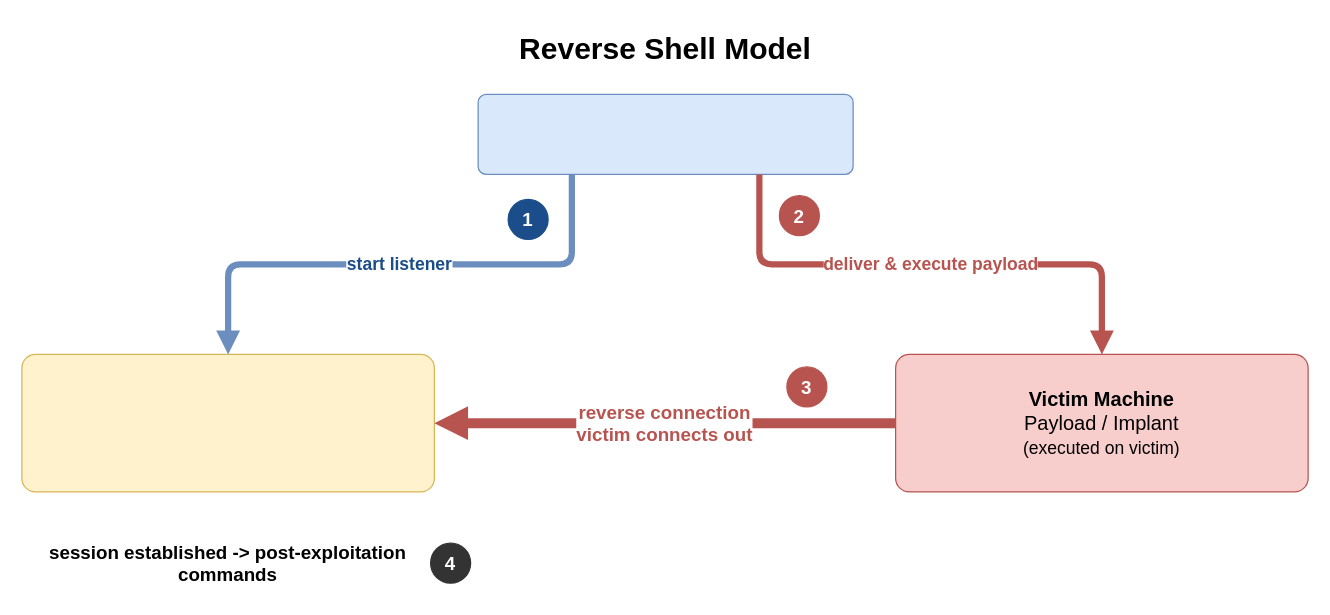
This 1330x615 diagram has some shape labels left out. The centre of each missing label's shape, as x and y in pixels:
Attacker Machine Listener / Handler (waiting on port X): the point at 227,422
AttackMate (playbook): the point at 665,133
